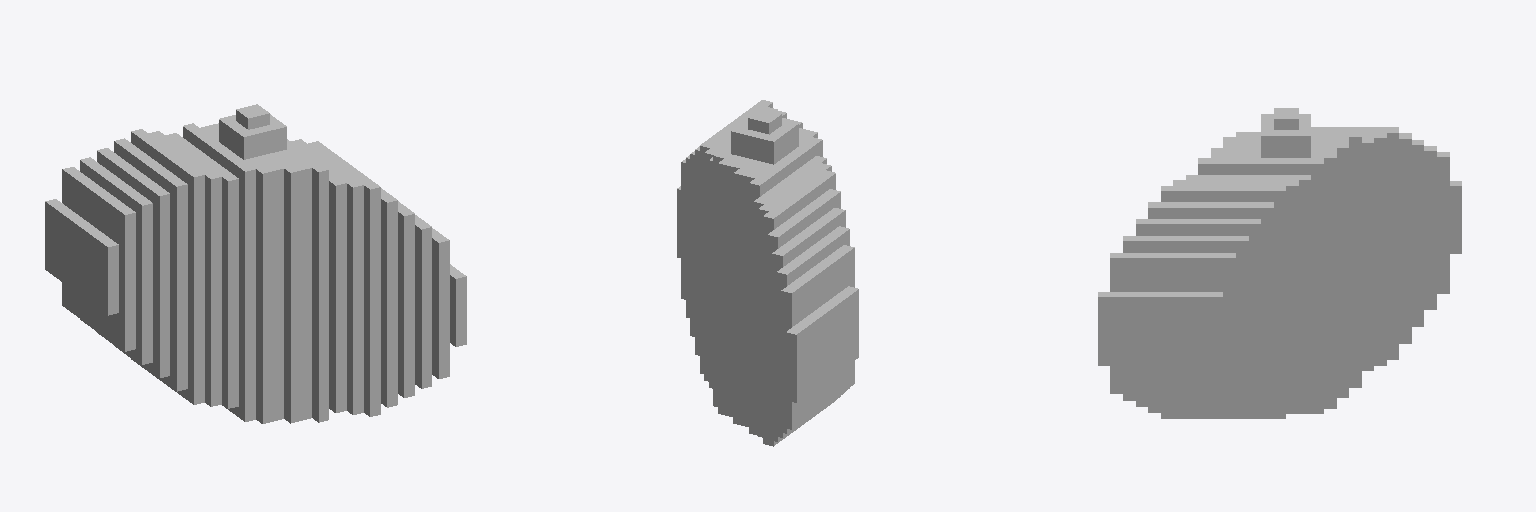
The model's file is Going Up9.obj.
The picture shows the model from 3 angles: view 1: azimuth 30°, elevation 25°; view 2: azimuth 150°, elevation 25°; view 3: azimuth 270°, elevation 25°; orthographic projection.
Size of the model in its own units: 22 by 25 by 29.